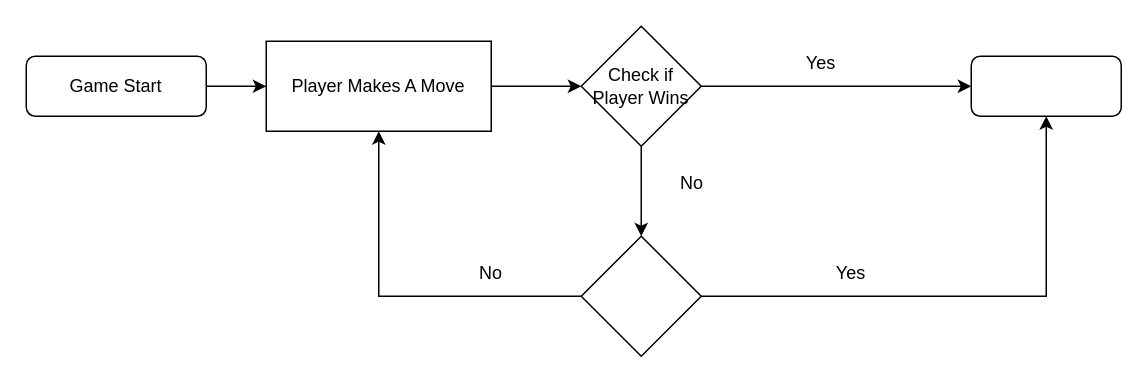
Image size: 1148x383. Some labels were removed from this diagram. The centre of each missing label's shape, as x and y in pixels:
"Game Ends" goes at [1045,85].
"Is it a Tie?" goes at [640,295].
